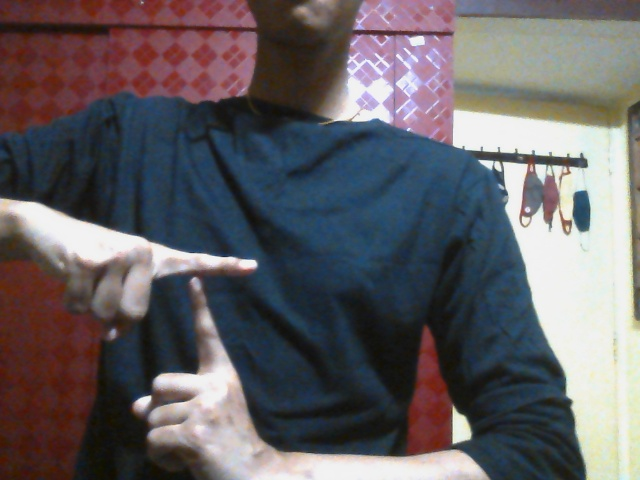T: (38, 205, 258, 475)
